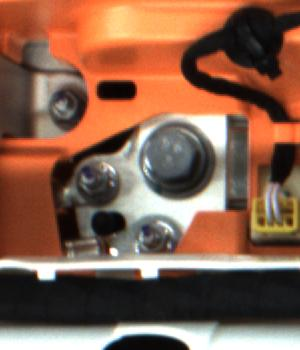nut_b: (148, 124, 216, 189)
screw_s: (44, 84, 86, 126), (77, 159, 119, 199), (134, 222, 170, 250)
